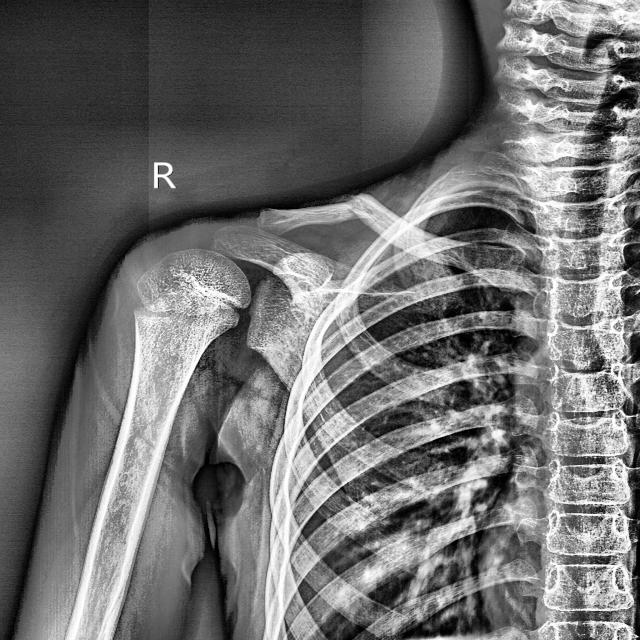Fracture: (314, 182, 392, 233)
